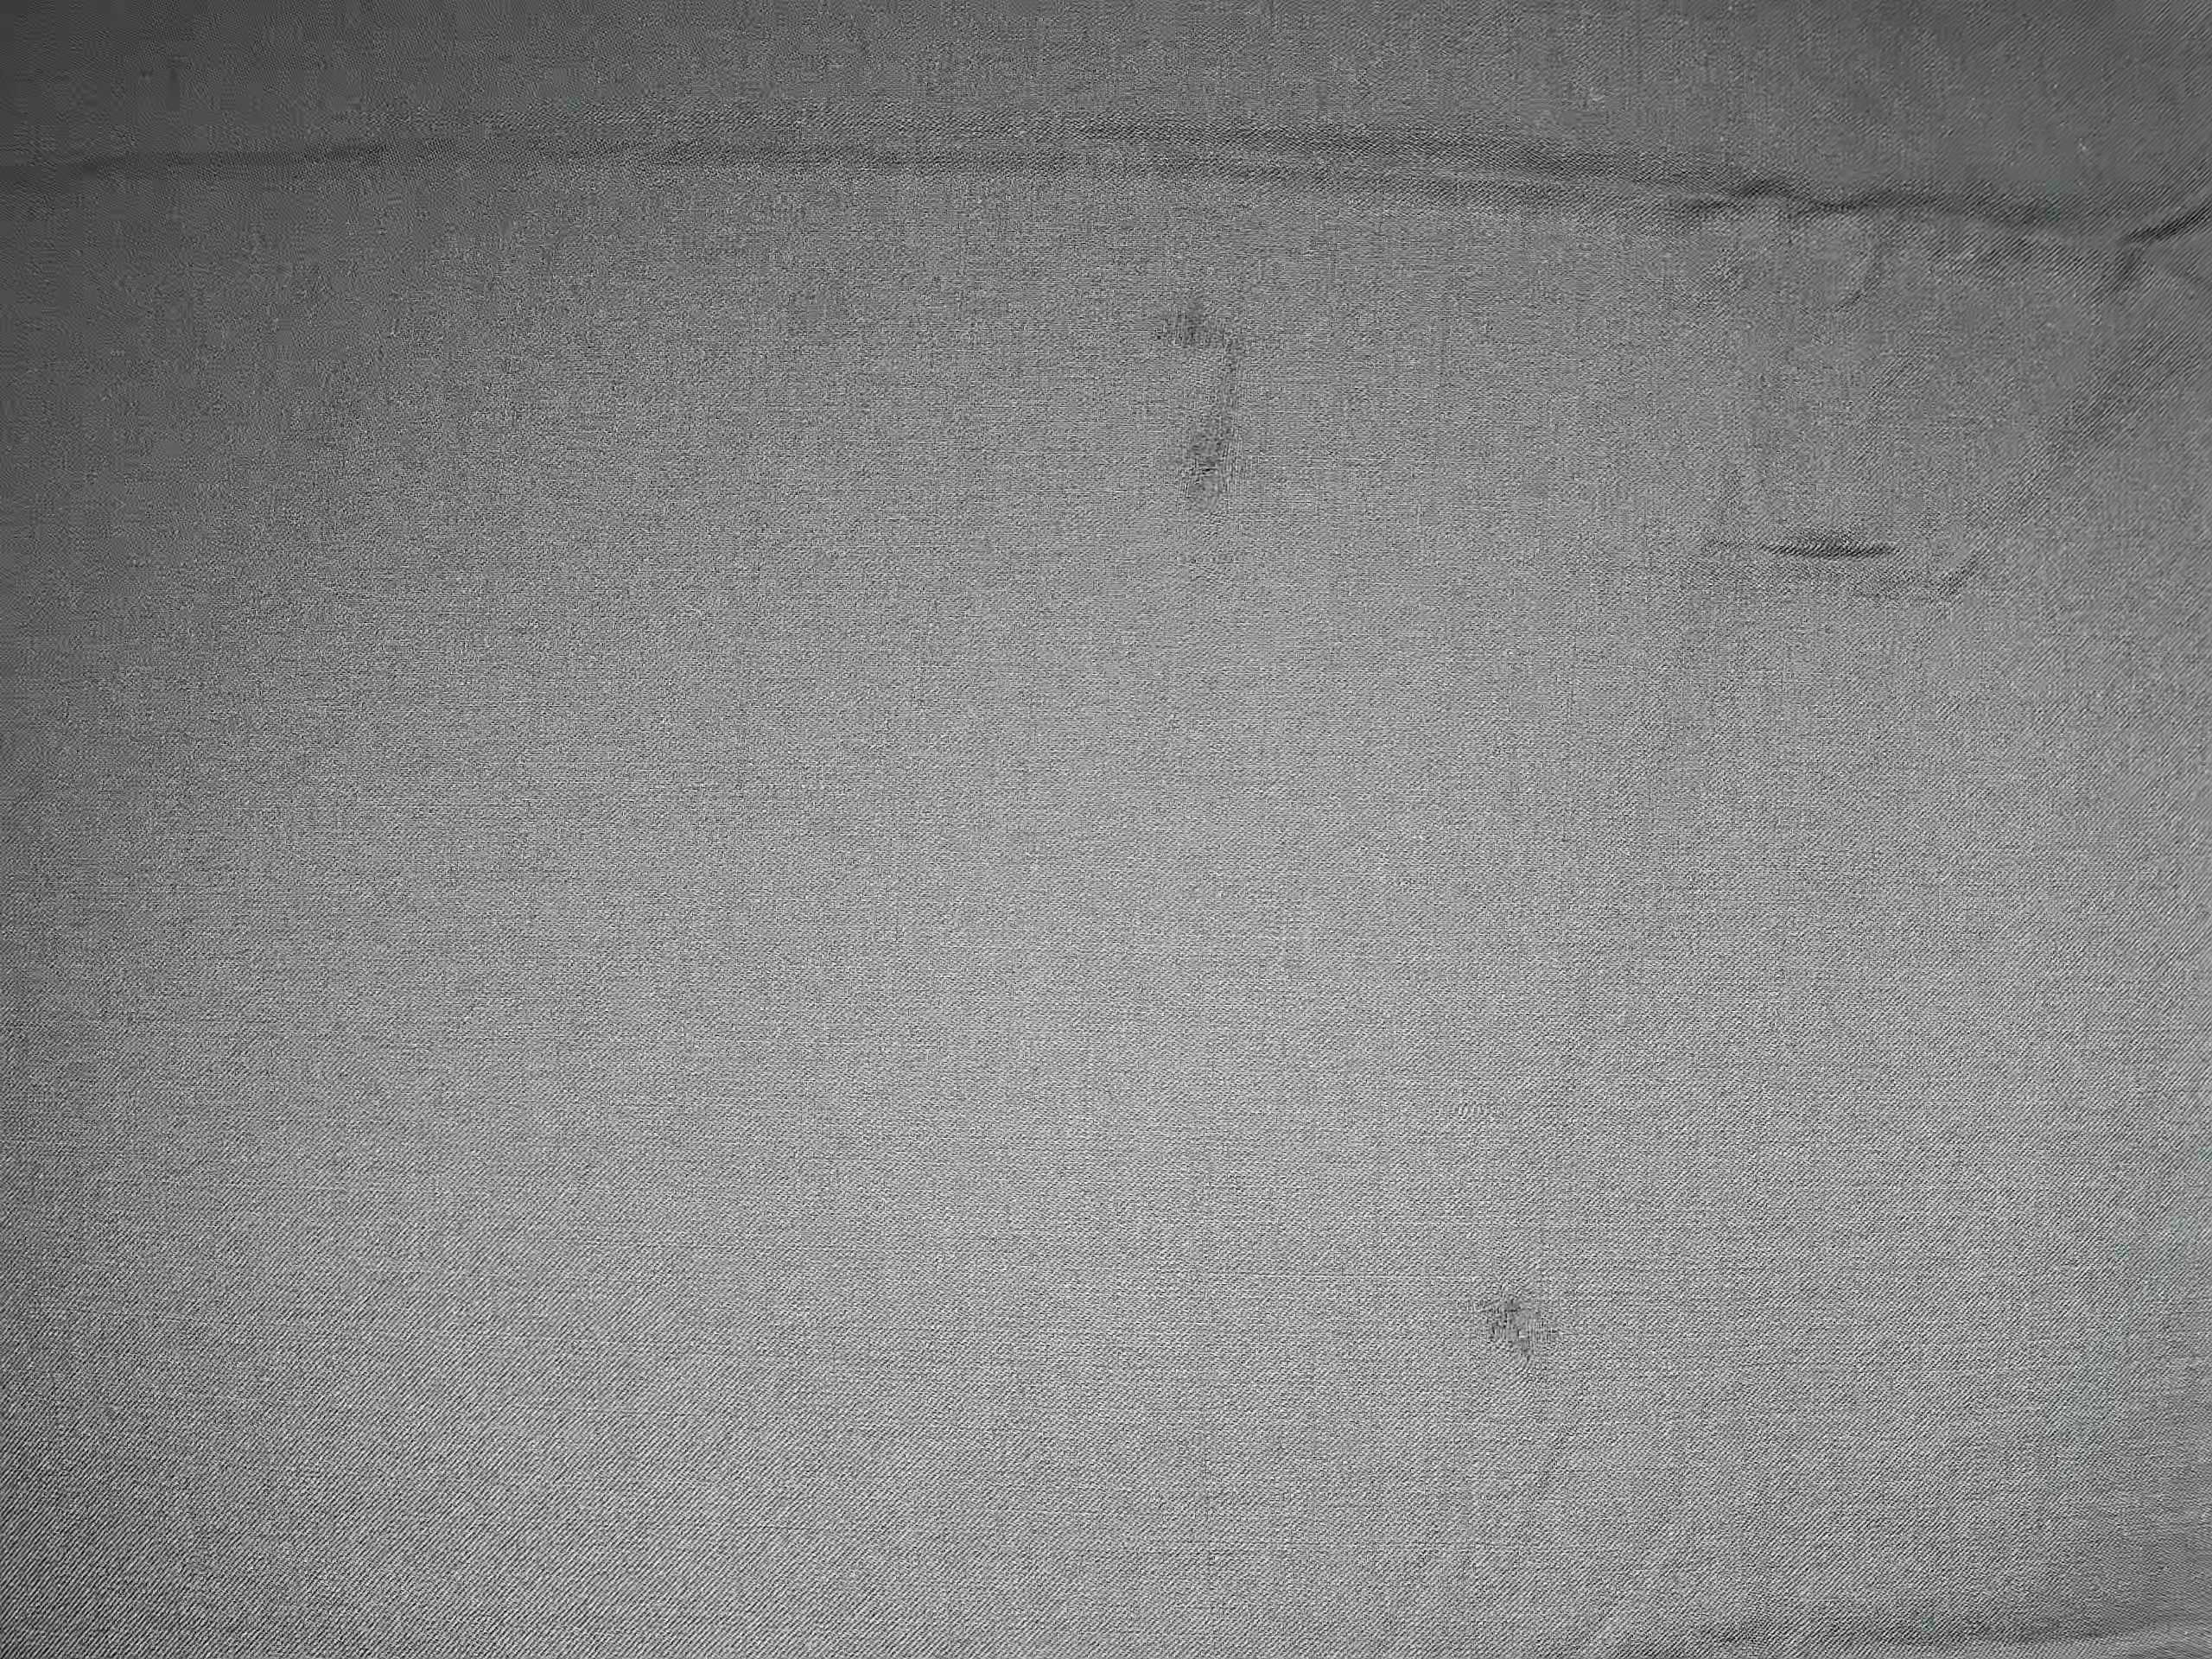brushed-hole: (1143, 288, 1264, 521), (1465, 1277, 1569, 1378)
